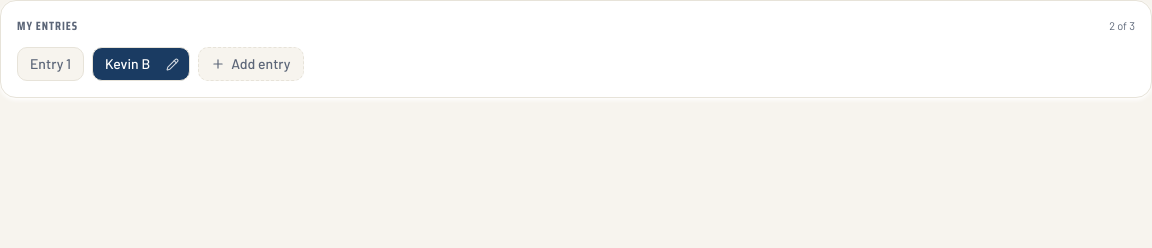
Test case: EntrySwitcher — renaming an entry that exists › shows the SERVER's refusal beside the field and keeps the form open
This screenshot has width=1152, height=248.
Click the button with test id "rename-entry-2": (176, 64) [162,52,189,76]
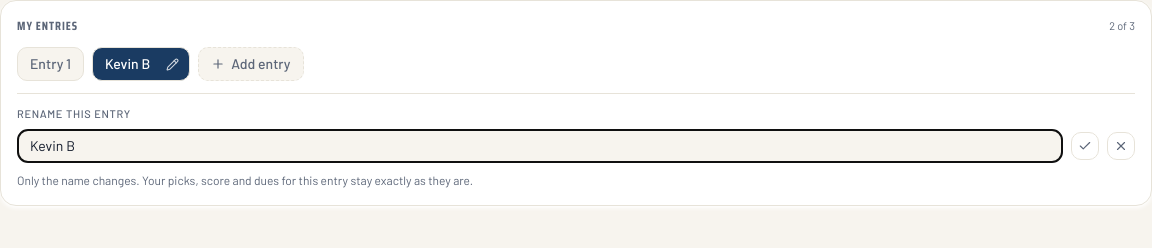
Replace the text in the field named "Rename this entry" with "Something": (540, 146) [17,128,1063,162]
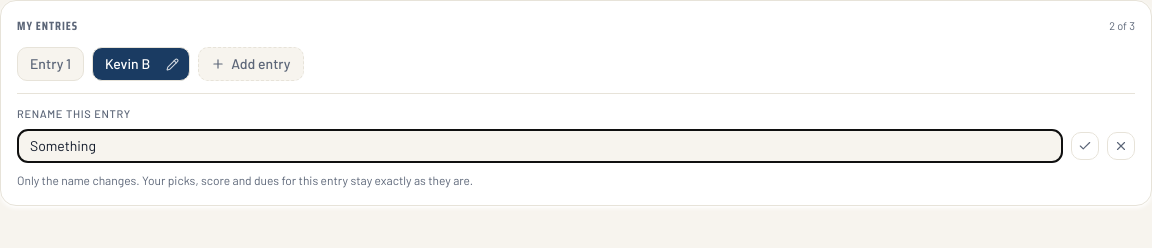
Click the button named "Save entry name": (1085, 146) [1071,132,1099,160]
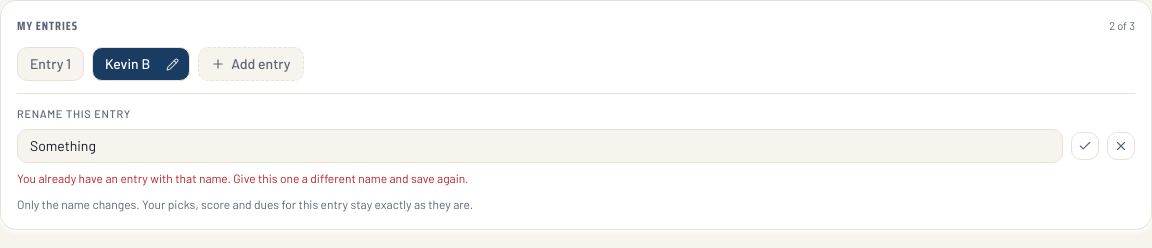
Check: the text "already have an entry with that name" is shown, box [17,170,468,184]
